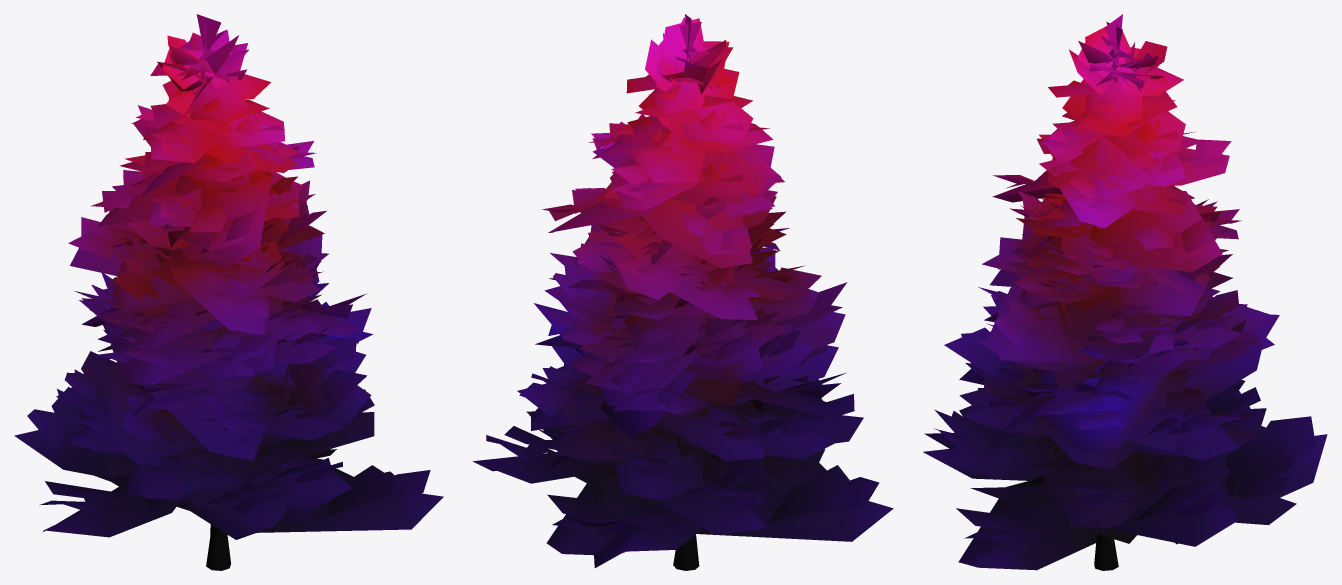
The model's file is Fir01.fbx.
The picture shows the model from 3 angles, left to right: view 1: azimuth 30°, elevation 25°; view 2: azimuth 150°, elevation 25°; view 3: azimuth 270°, elevation 25°; orthographic projection. The views are drawn at different scales.
Parts seen in each view (by area): view 1: Fir01_LOD0; view 2: Fir01_LOD0; view 3: Fir01_LOD0.
Boxes of the visible parts, box(x1,y1,x2,y2) form: Fir01_LOD0: box(14, 14, 443, 570); Fir01_LOD0: box(472, 14, 893, 570); Fir01_LOD0: box(923, 14, 1327, 570).
Size of what is drawn, in the model's own units: 456 by 682 by 459.
